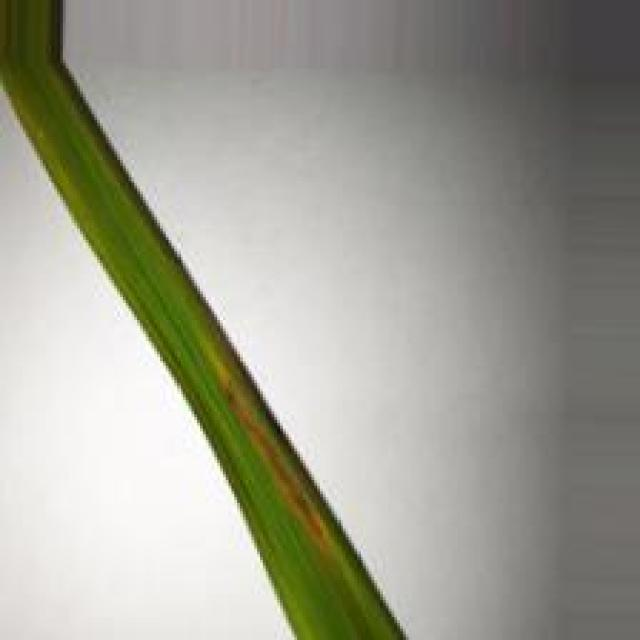Leaf_Blast: (209, 351, 338, 550)
